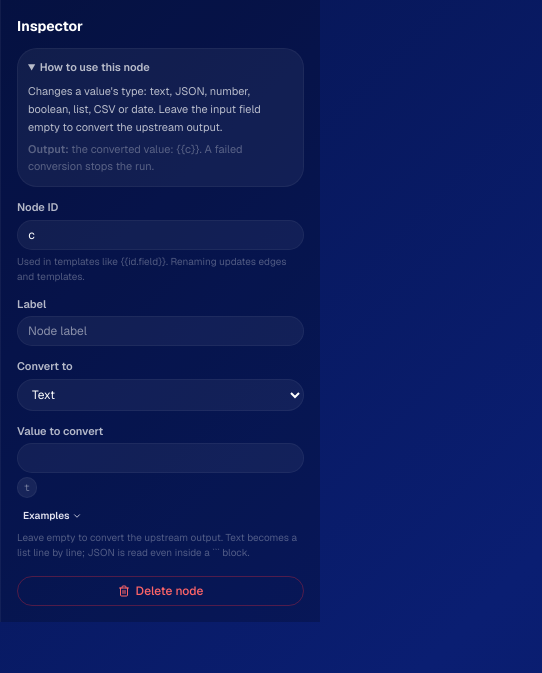
inspector › exposes csv and date as convert targets with a short help
Select "CSV" in the dropdown labelled "Convert to" at (160, 395), box [17,379,304,411]
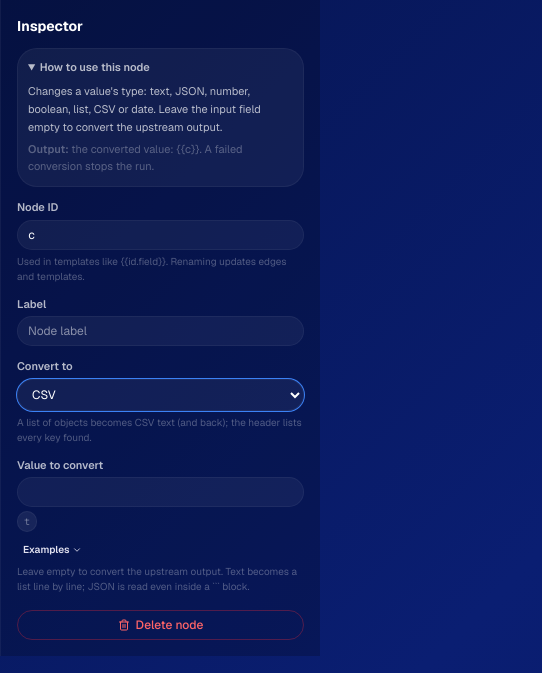
expect the text "becomes CSV text" is shown: met, box [17,416,302,444]
Select "Date" in the dropdown labelled "Convert to" at (160, 395), box [17,379,304,411]
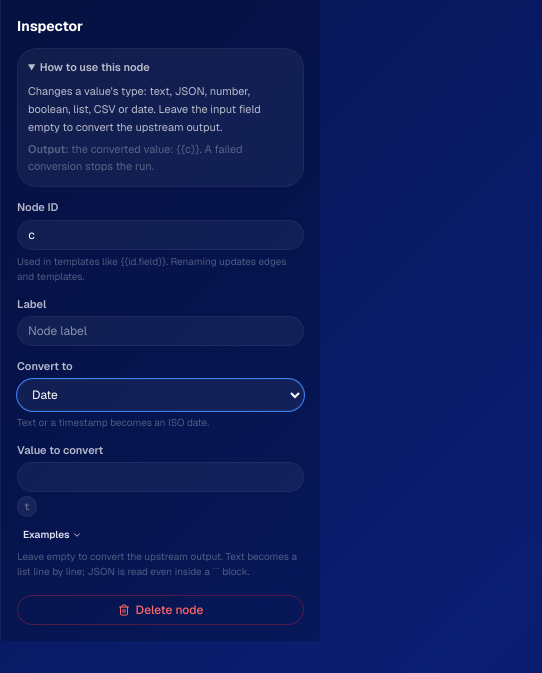
expect the text "Text or a timestamp becomes an ISO date." is shown: met, box [17,416,209,429]
